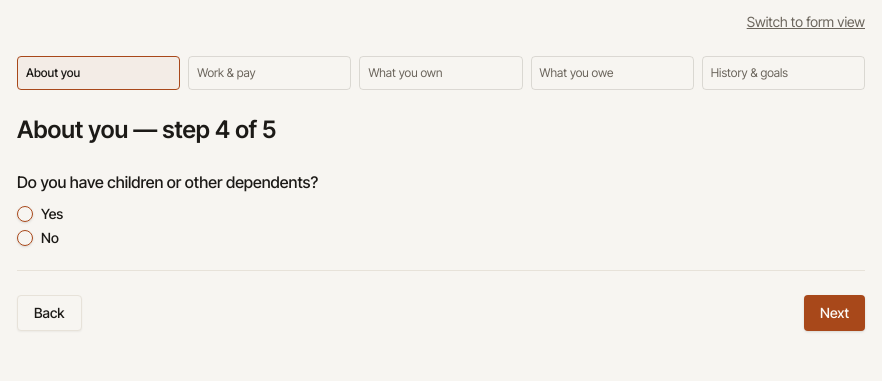
FlowShell › m2: Next on a pristine gate shows the required error and stays; selecting clears it
The image size is (882, 381).
Expected: the heading "About you — step 4 of 5" is shown, x1=17 y1=115 x2=276 y2=144
Click the button "Next".
click(835, 313)  # box x1=804 y1=295 x2=865 y2=331
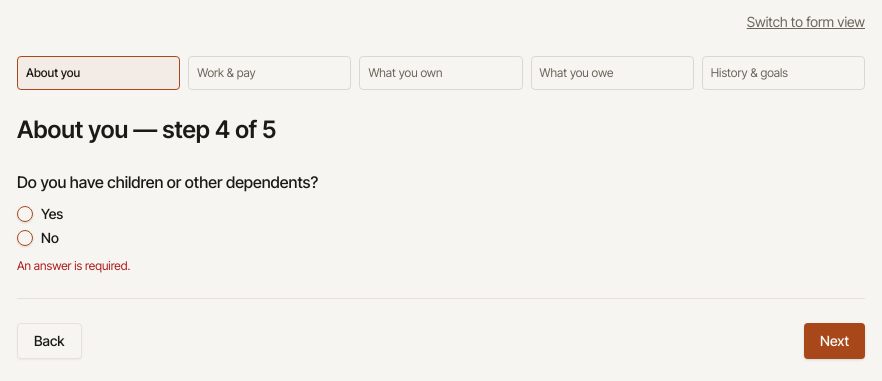
Expected: the heading "About you — step 4 of 5" is shown, x1=17 y1=115 x2=276 y2=144
Now the text "An answer is required." is shown, box x1=17 y1=258 x2=130 y2=273
Click the radio button named "No" next to "No".
click(25, 238)  # box x1=17 y1=230 x2=33 y2=246
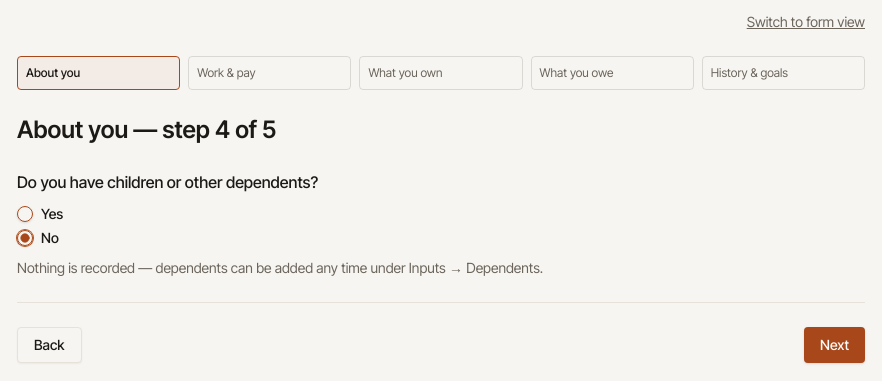
Now the text "An answer is required." is gone
